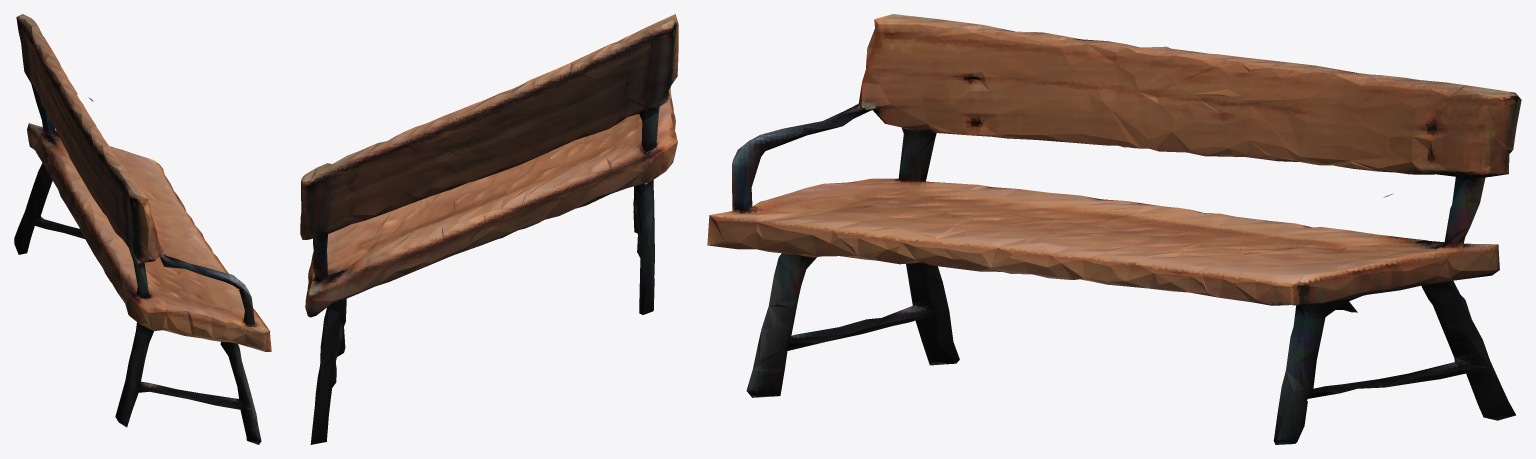
The model's file is bench.obj.
3 renders of one model, left to right at view 1: azimuth 30°, elevation 25°; view 2: azimuth 150°, elevation 25°; view 3: azimuth 270°, elevation 25°, orthographic. The views are drawn at different scales.
Size of the model in its own units: 0.6021 by 0.8488 by 1.8.
1 material, 1 textured.
